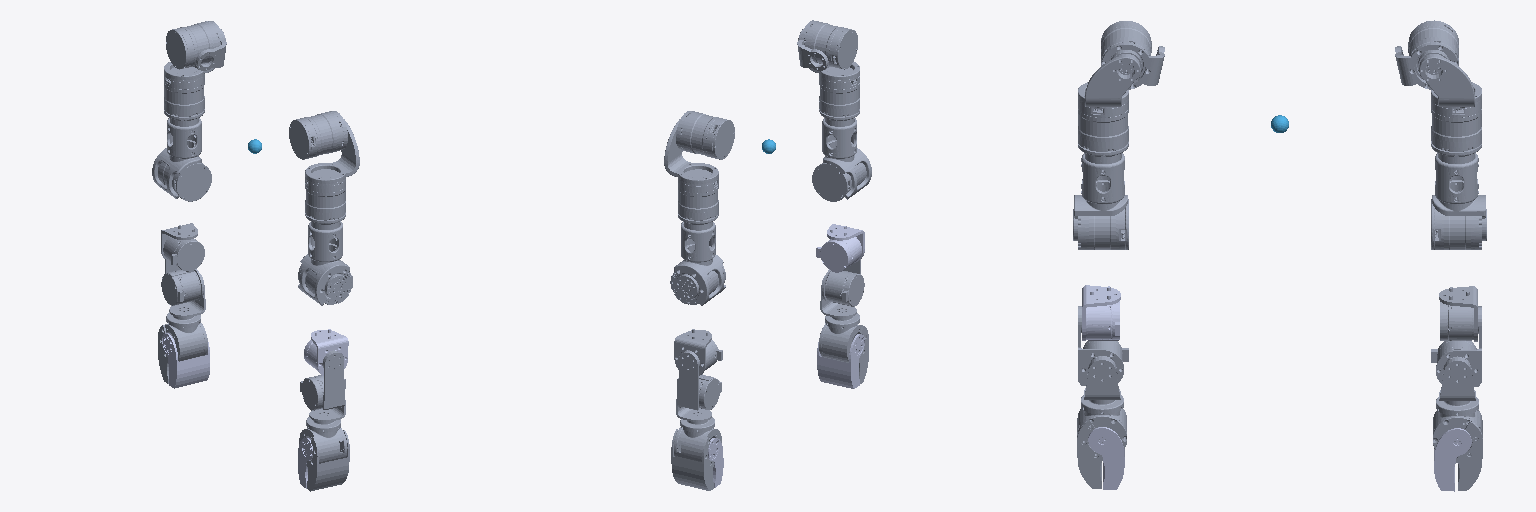
--- Facts derived from the render (not from the file) ---
3 views of the same robot in one strip: view 1: azimuth 30°, elevation 25°; view 2: azimuth 150°, elevation 25°; view 3: azimuth 270°, elevation 25° (orthographic).
Model up_body with 19 links and 18 joints (16 revolute, 2 fixed), rooted at world, posed every joint at zero.
Links seen in each view (by area): view 1: left_3_link, right_3_link, right_7_link, right_2_link, left_1_link, left_7_link, right_1_link, left_2_link, right_6_link, left_5_link, left_8_link, left_6_link (+2 smaller); view 2: right_3_link, left_3_link, left_7_link, left_2_link, right_1_link, right_7_link, left_1_link, right_2_link, left_6_link, right_5_link, right_8_link, right_6_link (+2 smaller); view 3: left_3_link, right_3_link, left_2_link, right_2_link, left_7_link, right_7_link, left_1_link, right_1_link, right_5_link, left_5_link, left_8_link, right_8_link (+2 smaller).
Boxes of the visible links, x1=… form: left_3_link: x1=152, y1=109, x2=211, y2=201; right_3_link: x1=298, y1=213, x2=352, y2=305; right_7_link: x1=299, y1=400, x2=349, y2=491; right_2_link: x1=305, y1=119, x2=359, y2=220; left_1_link: x1=166, y1=21, x2=226, y2=70; left_7_link: x1=158, y1=274, x2=207, y2=383; right_1_link: x1=289, y1=111, x2=347, y2=159; left_2_link: x1=164, y1=29, x2=225, y2=116; right_6_link: x1=300, y1=350, x2=345, y2=410; left_5_link: x1=161, y1=223, x2=204, y2=271; left_8_link: x1=162, y1=333, x2=209, y2=388; left_6_link: x1=161, y1=259, x2=203, y2=305; right_3_link: x1=812, y1=109, x2=871, y2=201; left_3_link: x1=670, y1=213, x2=725, y2=305; left_7_link: x1=671, y1=399, x2=721, y2=490; left_2_link: x1=664, y1=119, x2=718, y2=220; right_1_link: x1=797, y1=20, x2=857, y2=70; right_7_link: x1=819, y1=276, x2=868, y2=383; left_1_link: x1=676, y1=111, x2=734, y2=159; right_2_link: x1=798, y1=29, x2=859, y2=116; left_6_link: x1=677, y1=350, x2=721, y2=410; right_5_link: x1=816, y1=224, x2=864, y2=272; right_8_link: x1=817, y1=334, x2=864, y2=388; right_6_link: x1=822, y1=259, x2=864, y2=306; left_3_link: x1=1431, y1=141, x2=1486, y2=249; right_3_link: x1=1073, y1=142, x2=1128, y2=249; left_2_link: x1=1419, y1=54, x2=1481, y2=151; right_2_link: x1=1078, y1=54, x2=1140, y2=151; left_7_link: x1=1433, y1=357, x2=1482, y2=490; right_7_link: x1=1077, y1=356, x2=1126, y2=488; left_1_link: x1=1395, y1=20, x2=1458, y2=89; right_1_link: x1=1101, y1=21, x2=1164, y2=89; right_5_link: x1=1082, y1=285, x2=1120, y2=340; left_5_link: x1=1439, y1=286, x2=1477, y2=341; left_8_link: x1=1434, y1=428, x2=1471, y2=491; right_8_link: x1=1088, y1=427, x2=1124, y2=489.
Bounding box of the posed robot: 0.0758 × 0.453 × 0.545 m (x, y, z).
14 mesh visuals loaded from 17 distinct referenced files (14 binary STL); not drawn: 3 (reference not matched to a file when rendering).

URDF robot description (up_body):
<?xml version="1.0" encoding="utf-8" ?>
<!-- This URDF was automatically created by SolidWorks to URDF Exporter! Originally created by
Stephen Brawner ([email redacted]) 
     Commit Version: 1.6.0-4-g7f85cfe  Build Version: 1.6.7995.38578
     For more information, please see http://wiki.ros.org/sw_urdf_exporter -->
<robot name="up_body">

    <link name="world" />

    <joint name="world_fix" type="fixed">
        <parent link="world" />
        <child link="base_link" />
        <origin xyz="0 0 0" rpy="0 0 0" />
    </joint>
    
    <link name="base_link">
        <!-- Define visual and collision -->
        <visual>
            <geometry>
                <sphere radius="0.01" />
                <!-- Example: a small sphere -->
            </geometry>
        </visual>
        <collision>
            <geometry>
                <sphere radius="0.01" />
            </geometry>
        </collision>
        <inertial>
            <mass value="0.1" />
            <origin xyz="0 0 0" rpy="0 0 0" />
            <inertia ixx="0.03" iyy="0.03" izz="0.03" ixy="0.0" ixz="0.0" iyz="0.0" />
        </inertial>
    </link>
    <joint name="dummy_joint" type="fixed">
        <parent link="base_link" />
        <child link="base" />
        <origin xyz="0 0 0" />
        <!-- Example: adjust the origin relative to parent link -->
    </joint>
    <link name="base">
        <inertial>
            <origin xyz="0.012283 -0.00239 -0.050054" rpy="0 0 0" />
            <mass value="2.4906" />
            <inertia ixx="0.0054869" ixy="3.5925E-08" ixz="3.6623E-09" iyy="0.0035821" iyz="-8.8518E-08" izz="0.0033077" />
        </inertial>
        <visual>
            <origin xyz="0 0 0" rpy="0 0 0" />
            <geometry>
                <mesh filename="package://wow_description/meshes/base.STL" />
            </geometry>
            <material name="">
                <color rgba="0.75294 0.75294 0.75294 1" />
            </material>
        </visual>
        <collision>
            <origin xyz="0 0 0" rpy="0 0 0" />
            <geometry>
                <mesh filename="package://wow_description/meshes/base.STL" />
            </geometry>
        </collision>
    </link>
    <link name="left_1_link">
        <inertial>
            <origin xyz="0.013474 0.030402 0.0064645" rpy="0 0 0" />
            <mass value="0.079025" />
            <inertia ixx="4.1444E-05" ixy="-4.8043E-06" ixz="-1.0203E-06" iyy="2.3549E-05" iyz="-1.6139E-06" izz="3.1271E-05" />
        </inertial>
        <visual>
            <origin xyz="0 0 0" rpy="0 0 0" />
            <geometry>
                <mesh filename="package://wow_description/meshes/left_1_link.STL" />
            </geometry>
            <material name="">
                <color rgba="0.66667 0.69804 0.76863 1" />
            </material>
        </visual>
        <collision>
            <origin xyz="0 0 0" rpy="0 0 0" />
            <geometry>
                <mesh filename="package://wow_description/meshes/left_1_link.STL" />
            </geometry>
        </collision>
    </link>
    <joint name="left_1_joint" type="revolute">
        <origin xyz="0 0.12962 0.076557" rpy="0 0 0" />
        <parent link="base" />
        <child link="left_1_link" />
        <axis xyz="0 -0.97815 -0.20791" />
        <limit lower="-3.14" upper="3.14" effort="36" velocity="3" />
    </joint>
    <link name="left_2_link">
        <inertial>
            <origin xyz="0.015851 0.021696 -0.051129" rpy="0 0 0" />
            <mass value="0.11148" />
            <inertia ixx="5.4448E-05" ixy="4.2798E-06" ixz="-1.5289E-05" iyy="6.3063E-05" iyz="9.363E-06" izz="6.4339E-05" />
        </inertial>
        <visual>
            <origin xyz="0 0 0" rpy="0 0 0" />
            <geometry>
                <mesh filename="package://wow_description/meshes/left_2_link.STL" />
            </geometry>
            <material name="">
                <color rgba="0.66667 0.69804 0.76863 1" />
            </material>
        </visual>
        <collision>
            <origin xyz="0 0 0" rpy="0 0 0" />
            <geometry>
                <mesh filename="package://wow_description/meshes/left_2_link.STL" />
            </geometry>
        </collision>
    </link>
    <joint name="left_2_joint" type="revolute">
        <origin xyz="0 0.039126 0.0083165" rpy="0 0 0" />
        <parent link="left_1_link" />
        <child link="left_2_link" />
        <axis xyz="-1 0 0" />
        <limit lower="-3.14" upper="3.14" effort="36" velocity="3" />
    </joint>
    <link name="left_3_link">
        <inertial>
            <origin xyz="-0.00248969235662033 0.00293484438012537 -0.0526008042337718" rpy="0 0 0" />
            <mass value="0.238706933610647" />
            <inertia ixx="9.87943585627899E-05" ixy="9.13605860329468E-07" ixz="-1.27260656838278E-05" iyy="0.000103787323036799" iyz="3.1845599398437E-06" izz="0.000101690556047408" />
        </inertial>
        <visual>
            <origin xyz="0 0 0" rpy="0 0 0" />
            <geometry>
                <mesh filename="package://wow_description/meshes/left_3_link.STL" />
            </geometry>
            <material name="">
                <color rgba="0.666666666666667 0.698039215686274 0.768627450980392 1" />
            </material>
        </visual>
        <collision>
            <origin xyz="0 0 0" rpy="0 0 0" />
            <geometry>
                <mesh filename="package://wow_description/meshes/left_3_link.STL" />
            </geometry>
        </collision>
    </link>
    <joint name="left_3_joint" type="revolute">
        <origin xyz="0 0.025 -0.1105" rpy="0 0 0" />
        <parent link="left_2_link" />
        <child link="left_3_link" />
        <axis xyz="0 0 1" />
        <limit lower="-3.14" upper="3.14" effort="36" velocity="3" />
    </joint>
    <link name="left_4_link">
        <inertial>
            <origin xyz="9.5034E-05 0.0089784 -0.046116" rpy="0 0 0" />
            <mass value="0.15481" />
            <inertia ixx="5.985E-05" ixy="-2.5765E-07" ixz="-2.4359E-08" iyy="5.3653E-05" iyz="-9.668E-06" izz="7.4897E-05" />
        </inertial>
        <visual>
            <origin xyz="0 0 0" rpy="0 0 0" />
            <geometry>
                <mesh filename="package://wow_description/meshes/left_4_link.STL" />
            </geometry>
            <material name="">
                <color rgba="0.66667 0.69804 0.76863 1" />
            </material>
        </visual>
        <collision>
            <origin xyz="0 0 0" rpy="0 0 0" />
            <geometry>
                <mesh filename="package://wow_description/meshes/left_4_link.STL" />
            </geometry>
        </collision>
    </link>
    <joint name="left_4_joint" type="revolute">
        <origin xyz="0 0 -0.096" rpy="0 0 0" />
        <parent link="left_3_link" />
        <child link="left_4_link" />
        <axis xyz="0 -1 0" />
        <limit lower="-3.14" upper="3.14" effort="36" velocity="3" />
    </joint>
    <link name="left_5_link">
        <inertial>
            <origin xyz="-8.09721458582408E-05 0.00389438034148359 -0.0239422931896223" rpy="0 0 0" />
            <mass value="0.0898368868007285" />
            <inertia ixx="2.59830076366852E-05" ixy="-1.11403371340546E-07" ixz="1.7556763011675E-09" iyy="2.77594203686851E-05" iyz="2.89508784263438E-06" izz="2.46912827577429E-05" />
        </inertial>
        <visual>
            <origin xyz="0 0 0" rpy="0 0 0" />
            <geometry>
                <mesh filename="package://wow_description/meshes/left_5_link.STL" />
            </geometry>
            <material name="">
                <color rgba="0.666666666666667 0.698039215686274 0.768627450980392 1" />
            </material>
        </visual>
        <collision>
            <origin xyz="0 0 0" rpy="0 0 0" />
            <geometry>
                <mesh filename="package://wow_description/meshes/left_5_link.STL" />
            </geometry>
        </collision>
    </link>
    <joint name="left_5_joint" type="revolute">
        <origin xyz="0 0 -0.0851" rpy="0 0 0" />
        <parent link="left_4_link" />
        <child link="left_5_link" />
        <axis xyz="0 0 -1" />
        <limit lower="-3.14" upper="3.14" effort="16" velocity="3" />
    </joint>
    <link name="left_6_link">
        <inertial>
            <origin xyz="-0.00114022282567267 0.00842562955320589 -0.0430839242381136" rpy="0 0 0" />
            <mass value="0.0972547290256352" />
            <inertia ixx="4.49766477426306E-05" ixy="1.84361265120315E-06" ixz="3.56468055813466E-06" iyy="4.3525104373625E-05" iyz="-3.22526849067065E-06" izz="2.30163152004137E-05" />
        </inertial>
        <visual>
            <origin xyz="0 0 0" rpy="0 0 0" />
            <geometry>
                <mesh filename="package://wow_description/meshes/left_6_link.STL" />
            </geometry>
            <material name="">
                <color rgba="0.666666666666667 0.698039215686274 0.768627450980392 1" />
            </material>
        </visual>
        <collision>
            <origin xyz="0 0 0" rpy="0 0 0" />
            <geometry>
                <mesh filename="package://wow_description/meshes/left_6_link.STL" />
            </geometry>
        </collision>
    </link>
    <joint name="left_6_joint" type="revolute">
        <origin xyz="0 0 -0.03" rpy="0 0 0" />
        <parent link="left_5_link" />
        <child link="left_6_link" />
        <axis xyz="0 1 0" />
        <limit lower="-3.14" upper="3.14" effort="3" velocity="3" />
    </joint>
    <link name="left_7_link">
        <inertial>
            <origin xyz="0.00416235633504741 0.00363480550919076 -0.069188042443997" rpy="0 0 0" />
            <mass value="0.145928807645556" />
            <inertia ixx="5.54746846940498E-05" ixy="2.34964405166679E-07" ixz="-4.20246002211186E-06" iyy="5.65107461827259E-05" iyz="-2.17766328983983E-06" izz="4.33617818999327E-05" />
        </inertial>
        <visual>
            <origin xyz="0 0 0" rpy="0 0 0" />
            <geometry>
                <mesh filename="package://wow_description/meshes/left_7_link.STL" />
            </geometry>
            <material name="">
                <color rgba="0.666666666666667 0.698039215686274 0.768627450980392 1" />
            </material>
        </visual>
        <collision>
            <origin xyz="0 0 0" rpy="0 0 0" />
            <geometry>
                <mesh filename="package://wow_description/meshes/left_7_link.STL" />
            </geometry>
        </collision>
    </link>
    <joint name="left_7_joint" type="revolute">
        <origin xyz="0 0.001 -0.053" rpy="0 0 0" />
        <parent link="left_6_link" />
        <child link="left_7_link" />
        <axis xyz="1 0 0" />
        <limit lower="-3.14" upper="3.14" effort="3" velocity="3" />
    </joint>
    <link name="left_8_link">
        <inertial>
            <origin xyz="0.00092878 -0.013414 -0.036076" rpy="0 0 0" />
            <mass value="0.042061" />
            <inertia ixx="1.3299E-05" ixy="-2.4192E-07" ixz="-6.5064E-07" iyy="2.3234E-05" iyz="-1.0291E-06" izz="1.4603E-05" />
        </inertial>
        <visual>
            <origin xyz="0 0 0" rpy="0 0 0" />
            <geometry>
                <mesh filename="package://wow_description/meshes/left_8_link.STL" />
            </geometry>
            <material name="">
                <color rgba="0.79216 0.81961 0.93333 1" />
            </material>
        </visual>
        <collision>
            <origin xyz="0 0 0" rpy="0 0 0" />
            <geometry>
                <mesh filename="package://wow_description/meshes/left_8_link.STL" />
            </geometry>
        </collision>
    </link>
    <joint name="left_8_joint" type="revolute">
        <origin xyz="0 0 -0.082" rpy="0 0 0" />
        <parent link="left_7_link" />
        <child link="left_8_link" />
        <axis xyz="1 0 0" />
        <limit lower="-3.14" upper="3.14" effort="3" velocity="3" />
    </joint>
    <link name="right_1_link">
        <inertial>
            <origin xyz="0.0134735424850818 -0.0304032410783886 0.00646315691708459" rpy="0 0 0" />
            <mass value="0.0790253533347839" />
            <inertia ixx="4.14438899364807E-05" ixy="4.80314396792033E-06" ixz="-1.02206722064909E-06" iyy="2.36596641764565E-05" iyz="1.66250909002592E-06" izz="3.11609476791024E-05" />
        </inertial>
        <visual>
            <origin xyz="0 0 0" rpy="0 0 0" />
            <geometry>
                <mesh filename="package://wow_description/meshes/right_1_link.STL" />
            </geometry>
            <material name="">
                <color rgba="0.666666666666667 0.698039215686274 0.768627450980392 1" />
            </material>
        </visual>
        <collision>
            <origin xyz="0 0 0" rpy="0 0 0" />
            <geometry>
                <mesh filename="package://wow_description/meshes/right_1_link.STL" />
            </geometry>
        </collision>
    </link>
    <joint name="right_1_joint" type="revolute">
        <origin xyz="0 -0.12962 0.076557" rpy="0 0 0" />
        <parent link="base" />
        <child link="right_1_link" />
        <axis xyz="0 0.97815 -0.20791" />
        <limit lower="-3.14" upper="3.14" effort="36" velocity="3" />
    </joint>
    <link name="right_2_link">
        <inertial>
            <origin xyz="0.0158505733437823 -0.0216935215716004 -0.0511306952907706" rpy="0 0 0" />
            <mass value="0.111448356501863" />
            <inertia ixx="5.44158616184592E-05" ixy="-4.30167474805824E-06" ixz="-1.52828139153949E-05" iyy="6.30561735135668E-05" iyz="-9.35489101676288E-06" izz="6.43229376244935E-05" />
        </inertial>
        <visual>
            <origin xyz="0 0 0" rpy="0 0 0" />
            <geometry>
                <mesh filename="package://wow_description/meshes/right_2_link.STL" />
            </geometry>
            <material name="">
                <color rgba="0.666666666666667 0.698039215686274 0.768627450980392 1" />
            </material>
        </visual>
        <collision>
            <origin xyz="0 0 0" rpy="0 0 0" />
            <geometry>
                <mesh filename="package://wow_description/meshes/right_2_link.STL" />
            </geometry>
        </collision>
    </link>
    <joint name="right_2_joint" type="revolute">
        <origin xyz="0 -0.039126 0.0083165" rpy="0 0 0" />
        <parent link="right_1_link" />
        <child link="right_2_link" />
        <axis xyz="-1 0 0" />
        <limit lower="-3.14" upper="3.14" effort="36" velocity="3" />
    </joint>
    <link name="right_3_link">
        <inertial>
            <origin xyz="-0.00249395519051818 -0.00292879026969153 -0.0526305114764832" rpy="0 0 0" />
            <mass value="0.23887196900758" />
            <inertia ixx="9.9056979803628E-05" ixy="-9.03221691528692E-07" ixz="-1.27938710037315E-05" iyy="0.000104013285281101" iyz="-3.18420559187731E-06" izz="0.000101840030338494" />
        </inertial>
        <visual>
            <origin xyz="0 0 0" rpy="0 0 0" />
            <geometry>
                <mesh filename="package://wow_description/meshes/right_3_link.STL" />
            </geometry>
            <material name="">
                <color rgba="0.666666666666667 0.698039215686274 0.768627450980392 1" />
            </material>
        </visual>
        <collision>
            <origin xyz="0 0 0" rpy="0 0 0" />
            <geometry>
                <mesh filename="package://wow_description/meshes/right_3_link.STL" />
            </geometry>
        </collision>
    </link>
    <joint name="right_3_joint" type="revolute">
        <origin xyz="0 -0.025 -0.1105" rpy="0 0 0" />
        <parent link="right_2_link" />
        <child link="right_3_link" />
        <axis xyz="0 0 1" />
        <limit lower="-3.14" upper="3.14" effort="36" velocity="3" />
    </joint>
    <link name="right_4_link">
        <inertial>
            <origin xyz="-0.000886516833894228 -0.00897841827868234 -0.046107912317484" rpy="0 0 0" />
            <mass value="0.154808535914561" />
            <inertia ixx="5.98555264773288E-05" ixy="-9.16796085294802E-08" ixz="2.82551393645645E-07" iyy="5.36529600735784E-05" iyz="9.67098874217089E-06" izz="7.48914991792591E-05" />
        </inertial>
        <visual>
            <origin xyz="0 0 0" rpy="0 0 0" />
            <geometry>
                <mesh filename="package://wow_description/meshes/right_4_link.STL" />
            </geometry>
            <material name="">
                <color rgba="0.792156862745098 0.819607843137255 0.933333333333333 1" />
            </material>
        </visual>
        <collision>
            <origin xyz="0 0 0" rpy="0 0 0" />
            <geometry>
                <mesh filename="package://wow_description/meshes/right_4_link.STL" />
            </geometry>
        </collision>
    </link>
    <joint name="right_4_joint" type="revolute">
        <origin xyz="0 0 -0.096" rpy="0 0 0" />
        <parent link="right_3_link" />
        <child link="right_4_link" />
        <axis xyz="0 1 0" />
        <limit lower="-3.14" upper="3.14" effort="36" velocity="3" />
    </joint>
    <link name="right_5_link">
        <inertial>
            <origin xyz="-0.00032996 -0.0038944 -0.02394" rpy="0 0 0" />
            <mass value="0.089837" />
            <inertia ixx="2.5983E-05" ixy="-1.6108E-07" ixz="-2.3921E-08" iyy="2.7759E-05" iyz="-2.8927E-06" izz="2.4692E-05" />
        </inertial>
        <visual>
            <origin xyz="0 0 0" rpy="0 0 0" />
            <geometry>
                <mesh filename="package://wow_description/meshes/right_5_link.STL" />
            </geometry>
            <material name="">
                <color rgba="0.79216 0.81961 0.93333 1" />
            </material>
        </visual>
        <collision>
            <origin xyz="0 0 0" rpy="0 0 0" />
            <geometry>
                <mesh filename="package://wow_description/meshes/right_5_link.STL" />
            </geometry>
        </collision>
    </link>
    <joint name="right_5_joint" type="revolute">
        <origin xyz="-0.0014606 0 -0.085087" rpy="0 0 0" />
        <parent link="right_4_link" />
        <child link="right_5_link" />
        <axis xyz="-0.017163 0 -0.99985" />
        <limit lower="-3.14" upper="3.14" effort="16" velocity="3" />
    </joint>
    <link name="right_6_link">
        <inertial>
            <origin xyz="-0.00188313388690023 -0.00842562266866698 -0.0432690885587548" rpy="0 0 0" />
            <mass value="0.097254676705112" />
            <inertia ixx="4.50921630158091E-05" ixy="-1.78804684170558E-06" ixz="3.17586389171684E-06" iyy="4.35250866533771E-05" iyz="3.25292797860358E-06" izz="2.29007801069132E-05" />
        </inertial>
        <visual>
            <origin xyz="0 0 0" rpy="0 0 0" />
            <geometry>
                <mesh filename="package://wow_description/meshes/right_6_link.STL" />
            </geometry>
            <material name="">
                <color rgba="0.666666666666667 0.698039215686274 0.768627450980392 1" />
            </material>
        </visual>
        <collision>
            <origin xyz="0 0 0" rpy="0 0 0" />
            <geometry>
                <mesh filename="package://wow_description/meshes/right_6_link.STL" />
            </geometry>
        </collision>
    </link>
    <joint name="right_6_joint" type="revolute">
        <origin xyz="-0.00051489 0 -0.029996" rpy="0 0 0" />
        <parent link="right_5_link" />
        <child link="right_6_link" />
        <axis xyz="0 -1 0" />
        <limit lower="-3.14" upper="3.14" effort="3" velocity="3" />
    </joint>
    <link name="right_7_link">
        <inertial>
            <origin xyz="8.91475507868791E-05 0.00363480595720386 -0.0690313206098698" rpy="0 0 0" />
            <mass value="0.145928804744434" />
            <inertia ixx="5.53268847438205E-05" ixy="1.97554103583722E-07" ixz="-4.40785013401683E-06" iyy="5.65107460489258E-05" iyz="-2.18137596872123E-06" izz="4.35095835241797E-05" />
        </inertial>
        <visual>
            <origin xyz="0 0 0" rpy="0 0 0" />
            <geometry>
                <mesh filename="package://wow_description/meshes/right_7_link.STL" />
            </geometry>
            <material name="">
                <color rgba="0.666666666666667 0.698039215686274 0.768627450980392 1" />
            </material>
        </visual>
        <collision>
            <origin xyz="0 0 0" rpy="0 0 0" />
            <geometry>
                <mesh filename="package://wow_description/meshes/right_7_link.STL" />
            </geometry>
        </collision>
    </link>
    <joint name="right_7_joint" type="revolute">
        <origin xyz="0.0019755 -0.001 -0.05321" rpy="0 0 0" />
        <parent link="right_6_link" />
        <child link="right_7_link" />
        <axis xyz="0.99985 0 -0.017163" />
        <limit lower="-3.14" upper="3.14" effort="3" velocity="3" />
    </joint>
    <link name="right_8_link">
        <inertial>
            <origin xyz="-0.00398301957418321 -0.0134136832937682 -0.0357778563064842" rpy="0 0 0" />
            <mass value="0.0420613783493527" />
            <inertia ixx="1.32767734603927E-05" ixy="-2.59546681094369E-07" ixz="-6.27884187563449E-07" iyy="2.32342591181864E-05" iyz="-1.02481994529995E-06" izz="1.46245764998919E-05" />
        </inertial>
        <visual>
            <origin xyz="0 0 0" rpy="0 0 0" />
            <geometry>
                <mesh filename="package://wow_description/meshes/right_8_link.STL" />
            </geometry>
            <material name="">
                <color rgba="0.792156862745098 0.819607843137255 0.933333333333333 1" />
            </material>
        </visual>
        <collision>
            <origin xyz="0 0 0" rpy="0 0 0" />
            <geometry>
                <mesh filename="package://wow_description/meshes/right_8_link.STL" />
            </geometry>
        </collision>
    </link>
    <joint name="right_8_joint" type="revolute">
        <origin xyz="0 0 -0.082079" rpy="0 0 0" />
        <parent link="right_7_link" />
        <child link="right_8_link" />
        <axis xyz="0.99985 0 -0.017163" />
        <limit lower="-3.14" upper="3.14" effort="3" velocity="3" />
    </joint>
    <transmission name="trans_left_1_joint">
        <type>transmission_interface/SimpleTransmission</type>
        <joint name="left_1_joint">
            <hardwareInterface>hardware_interface/PositionJointInterface</hardwareInterface>
        </joint>
        <actuator name="left_1_joint_motor">
            <hardwareInterface>hardware_interface/PositionJointInterface</hardwareInterface>
            <mechanicalReduction>1</mechanicalReduction>
        </actuator>
    </transmission>
    <transmission name="trans_left_2_joint">
        <type>transmission_interface/SimpleTransmission</type>
        <joint name="left_2_joint">
            <hardwareInterface>hardware_interface/PositionJointInterface</hardwareInterface>
        </joint>
        <actuator name="left_2_joint_motor">
            <hardwareInterface>hardware_interface/PositionJointInterface</hardwareInterface>
            <mechanicalReduction>1</mechanicalReduction>
        </actuator>
    </transmission>
    <transmission name="trans_left_3_joint">
        <type>transmission_interface/SimpleTransmission</type>
        <joint name="left_3_joint">
            <hardwareInterface>hardware_interface/PositionJointInterface</hardwareInterface>
        </joint>
        <actuator name="left_3_joint_motor">
            <hardwareInterface>hardware_interface/PositionJointInterface</hardwareInterface>
            <mechanicalReduction>1</mechanicalReduction>
        </actuator>
    </transmission>
    <transmission name="trans_left_4_joint">
        <type>transmission_interface/SimpleTransmission</type>
        <joint name="left_4_joint">
            <hardwareInterface>hardware_interface/PositionJointInterface</hardwareInterface>
        </joint>
        <actuator name="left_4_joint_motor">
            <hardwareInterface>hardware_interface/PositionJointInterface</hardwareInterface>
            <mechanicalReduction>1</mechanicalReduction>
        </actuator>
    </transmission>
    <transmission name="trans_left_5_joint">
        <type>transmission_interface/SimpleTransmission</type>
        <joint name="left_5_joint">
            <hardwareInterface>hardware_interface/PositionJointInterface</hardwareInterface>
        </joint>
        <actuator name="left_5_joint_motor">
            <hardwareInterface>hardware_interface/PositionJointInterface</hardwareInterface>
            <mechanicalReduction>1</mechanicalReduction>
        </actuator>
    </transmission>
    <transmission name="trans_left_6_joint">
        <type>transmission_interface/SimpleTransmission</type>
        <joint name="left_6_joint">
            <hardwareInterface>hardware_interface/PositionJointInterface</hardwareInterface>
        </joint>
        <actuator name="left_6_joint_motor">
            <hardwareInterface>hardware_interface/PositionJointInterface</hardwareInterface>
            <mechanicalReduction>1</mechanicalReduction>
        </actuator>
    </transmission>
    <transmission name="trans_left_7_joint">
        <type>transmission_interface/SimpleTransmission</type>
        <joint name="left_7_joint">
            <hardwareInterface>hardware_interface/PositionJointInterface</hardwareInterface>
        </joint>
        <actuator name="left_7_joint_motor">
            <hardwareInterface>hardware_interface/PositionJointInterface</hardwareInterface>
            <mechanicalReduction>1</mechanicalReduction>
        </actuator>
    </transmission>
    <transmission name="trans_left_8_joint">
        <type>transmission_interface/SimpleTransmission</type>
        <joint name="left_8_joint">
            <hardwareInterface>hardware_interface/PositionJointInterface</hardwareInterface>
        </joint>
        <actuator name="left_8_joint_motor">
            <hardwareInterface>hardware_interface/PositionJointInterface</hardwareInterface>
            <mechanicalReduction>1</mechanicalReduction>
        </actuator>
    </transmission>
    <transmission name="trans_right_1_joint">
        <type>transmission_interface/SimpleTransmission</type>
        <joint name="right_1_joint">
            <hardwareInterface>hardware_interface/PositionJointInterface</hardwareInterface>
        </joint>
        <actuator name="right_1_joint_motor">
            <hardwareInterface>hardware_interface/PositionJointInterface</hardwareInterface>
            <mechanicalReduction>1</mechanicalReduction>
        </actuator>
    </transmission>
    <transmission name="trans_right_2_joint">
        <type>transmission_interface/SimpleTransmission</type>
        <joint name="right_2_joint">
            <hardwareInterface>hardware_interface/PositionJointInterface</hardwareInterface>
        </joint>
        <actuator name="right_2_joint_motor">
            <hardwareInterface>hardware_interface/PositionJointInterface</hardwareInterface>
            <mechanicalReduction>1</mechanicalReduction>
        </actuator>
    </transmission>
    <transmission name="trans_right_3_joint">
        <type>transmission_interface/SimpleTransmission</type>
        <joint name="right_3_joint">
            <hardwareInterface>hardware_interface/PositionJointInterface</hardwareInterface>
        </joint>
        <actuator name="right_3_joint_motor">
            <hardwareInterface>hardware_interface/PositionJointInterface</hardwareInterface>
            <mechanicalReduction>1</mechanicalReduction>
        </actuator>
    </transmission>
    <transmission name="trans_right_4_joint">
        <type>transmission_interface/SimpleTransmission</type>
        <joint name="right_4_joint">
            <hardwareInterface>hardware_interface/PositionJointInterface</hardwareInterface>
        </joint>
        <actuator name="right_4_joint_motor">
            <hardwareInterface>hardware_interface/PositionJointInterface</hardwareInterface>
            <mechanicalReduction>1</mechanicalReduction>
        </actuator>
    </transmission>
    <transmission name="trans_right_5_joint">
        <type>transmission_interface/SimpleTransmission</type>
        <joint name="right_5_joint">
            <hardwareInterface>hardware_interface/PositionJointInterface</hardwareInterface>
        </joint>
        <actuator name="right_5_joint_motor">
            <hardwareInterface>hardware_interface/PositionJointInterface</hardwareInterface>
            <mechanicalReduction>1</mechanicalReduction>
        </actuator>
    </transmission>
    <transmission name="trans_right_6_joint">
        <type>transmission_interface/SimpleTransmission</type>
        <joint name="right_6_joint">
            <hardwareInterface>hardware_interface/PositionJointInterface</hardwareInterface>
        </joint>
        <actuator name="right_6_joint_motor">
            <hardwareInterface>hardware_interface/PositionJointInterface</hardwareInterface>
            <mechanicalReduction>1</mechanicalReduction>
        </actuator>
    </transmission>
    <transmission name="trans_right_7_joint">
        <type>transmission_interface/SimpleTransmission</type>
        <joint name="right_7_joint">
            <hardwareInterface>hardware_interface/PositionJointInterface</hardwareInterface>
        </joint>
        <actuator name="right_7_joint_motor">
            <hardwareInterface>hardware_interface/PositionJointInterface</hardwareInterface>
            <mechanicalReduction>1</mechanicalReduction>
        </actuator>
    </transmission>
    <transmission name="trans_right_8_joint">
        <type>transmission_interface/SimpleTransmission</type>
        <joint name="right_8_joint">
            <hardwareInterface>hardware_interface/PositionJointInterface</hardwareInterface>
        </joint>
        <actuator name="right_8_joint_motor">
            <hardwareInterface>hardware_interface/PositionJointInterface</hardwareInterface>
            <mechanicalReduction>1</mechanicalReduction>
        </actuator>
    </transmission>
    <gazebo>
        <plugin name="gazebo_ros_control" filename="libgazebo_ros_control.so">
            <robotNamespace>/</robotNamespace>
        </plugin>
    </gazebo>
</robot>
